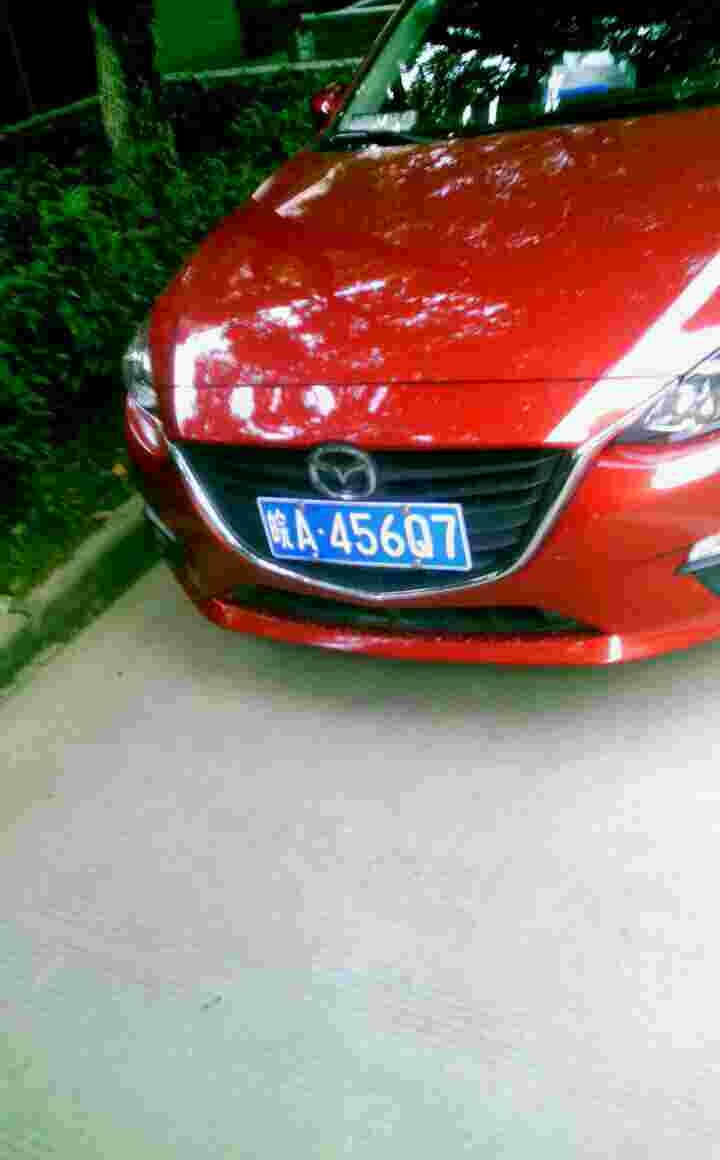license_plate: (270, 502, 480, 572)
